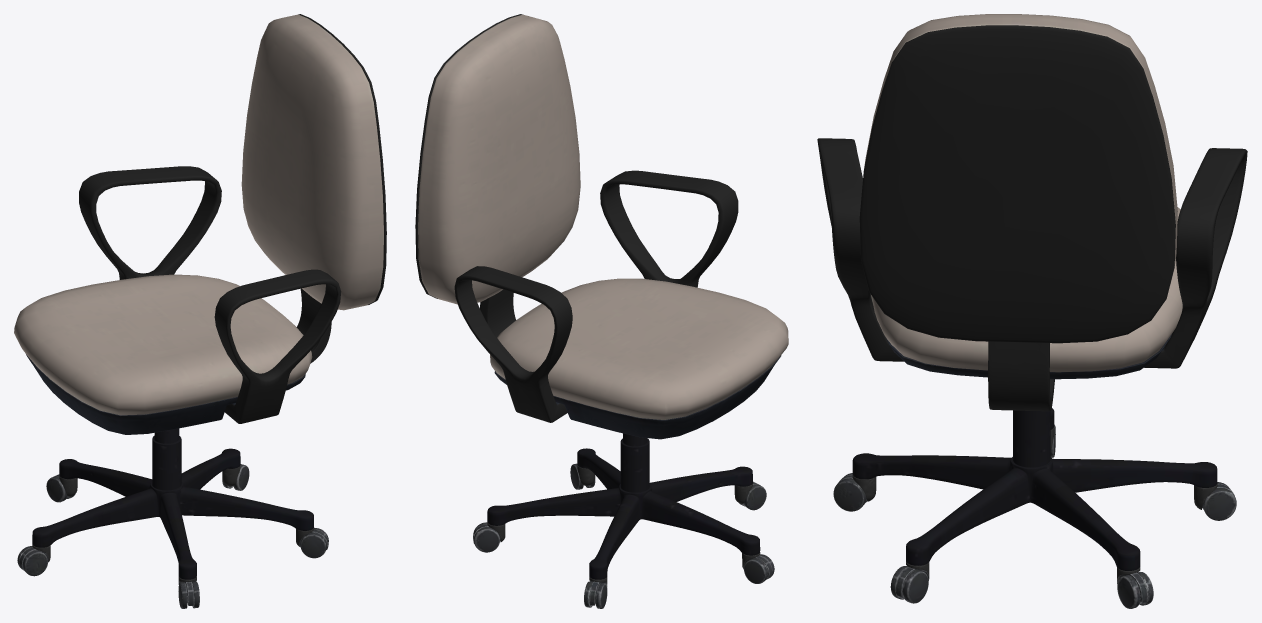
Rendered from chair.glb.
3 renders of one model, left to right at view 1: azimuth 30°, elevation 25°; view 2: azimuth 150°, elevation 25°; view 3: azimuth 270°, elevation 25°, orthographic. The views are drawn at different scales.
Parts seen in each view (by area): view 1: office-chair; view 2: office-chair; view 3: office-chair.
Boxes of the visible parts, bbox=[...] form: office-chair: bbox=[14, 14, 386, 608]; office-chair: bbox=[415, 14, 788, 608]; office-chair: bbox=[817, 14, 1247, 608].
Size of the model in its own units: 0.6614 by 0.966 by 0.6162.
10 materials, 7 textured.
